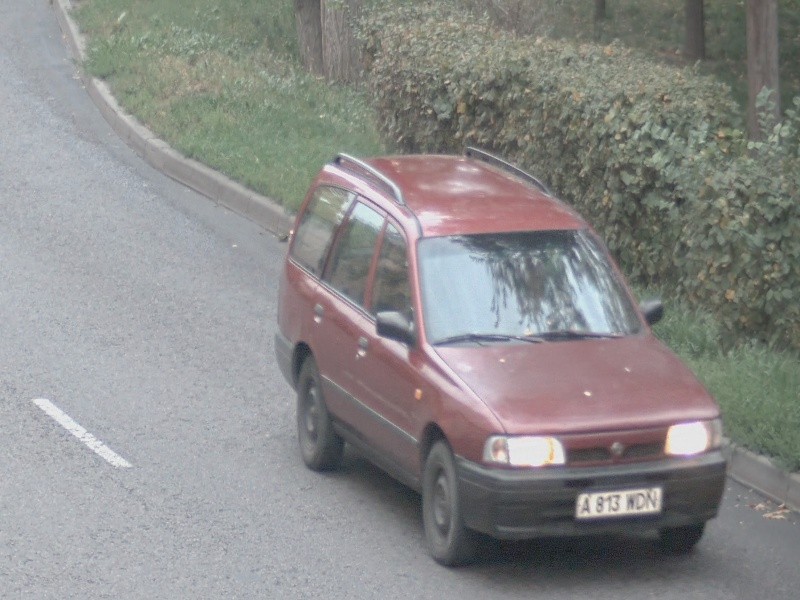plate: (574, 485, 663, 520)
